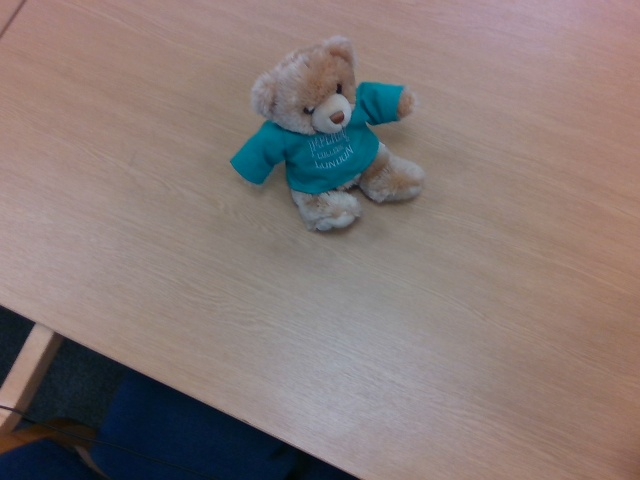teddy: (231, 35, 425, 231)
